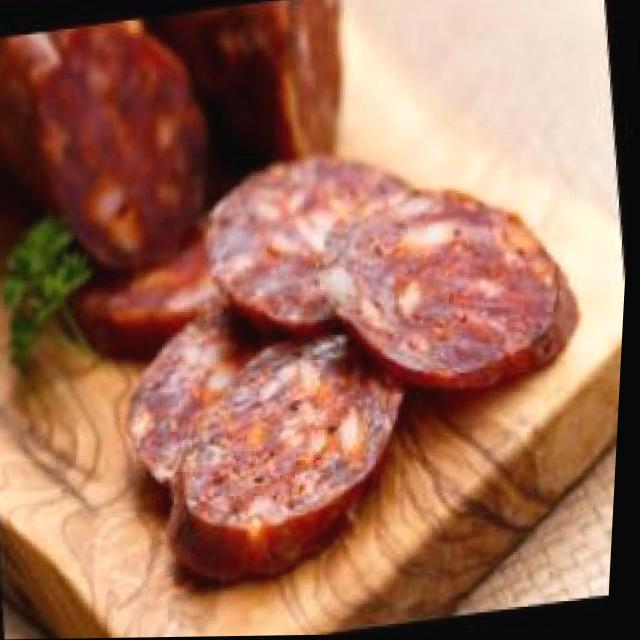chinese_sausage: (50, 91, 621, 610)
